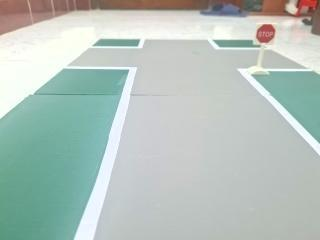stop: (253, 17, 281, 47)
